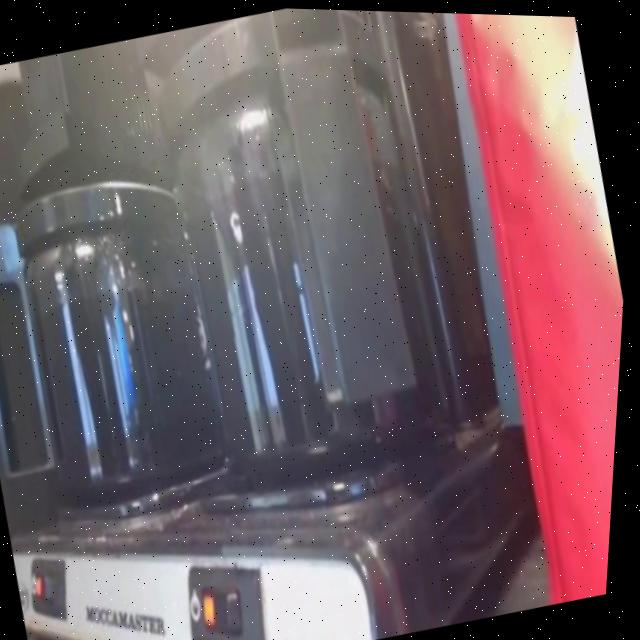coffee: (166, 122, 463, 480), (13, 233, 241, 492)
